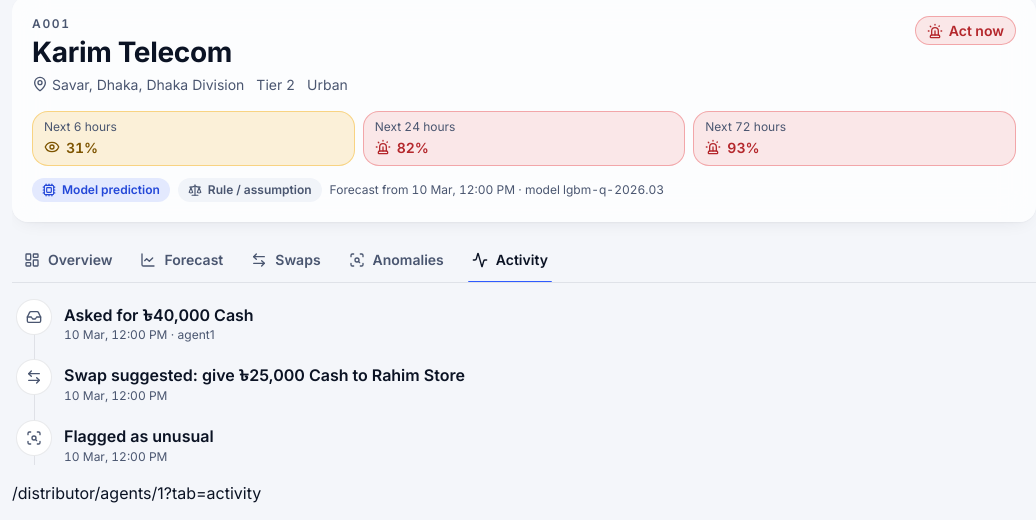
Test case: agent detail › shows the hero and keeps the tab in the URL
This screenshot has width=1036, height=520.
Check: the heading "Karim Telecom" is shown, box [32, 35, 232, 69]
Press the mouse on the tab "Swaps" at (286, 260), box [239, 238, 333, 282]
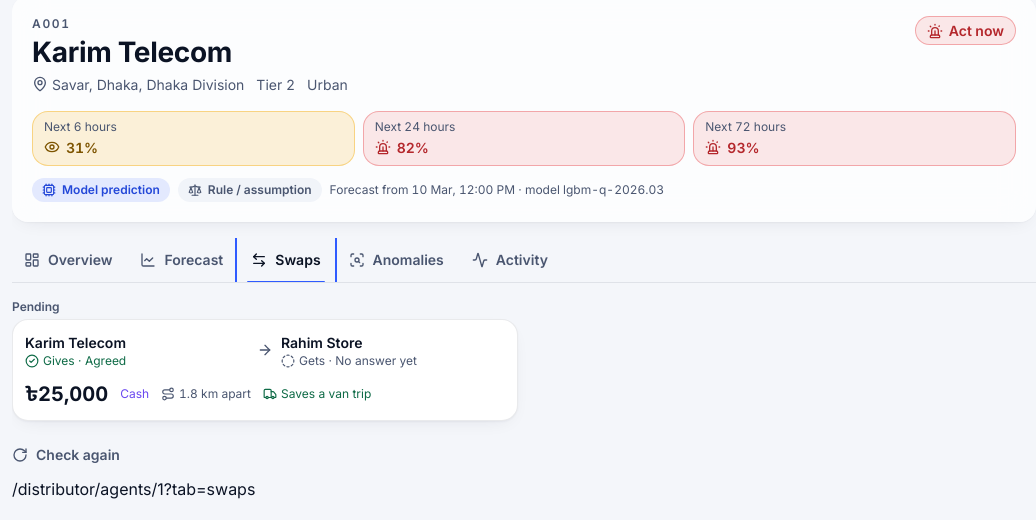
Check: the text with test id "location" shows "tab=swaps", box [12, 479, 255, 499]
